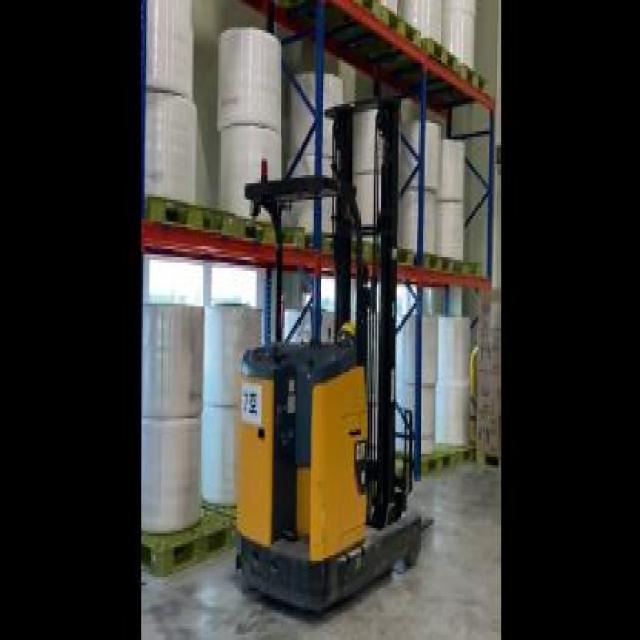robot: (236, 99, 438, 607)
white_roll: (143, 301, 205, 574), (206, 290, 263, 536), (219, 30, 286, 235), (141, 2, 197, 230), (295, 68, 343, 246), (394, 317, 438, 490), (351, 109, 392, 257), (436, 312, 472, 470), (434, 137, 474, 279), (400, 120, 437, 268), (443, 2, 479, 88), (400, 3, 443, 63)
